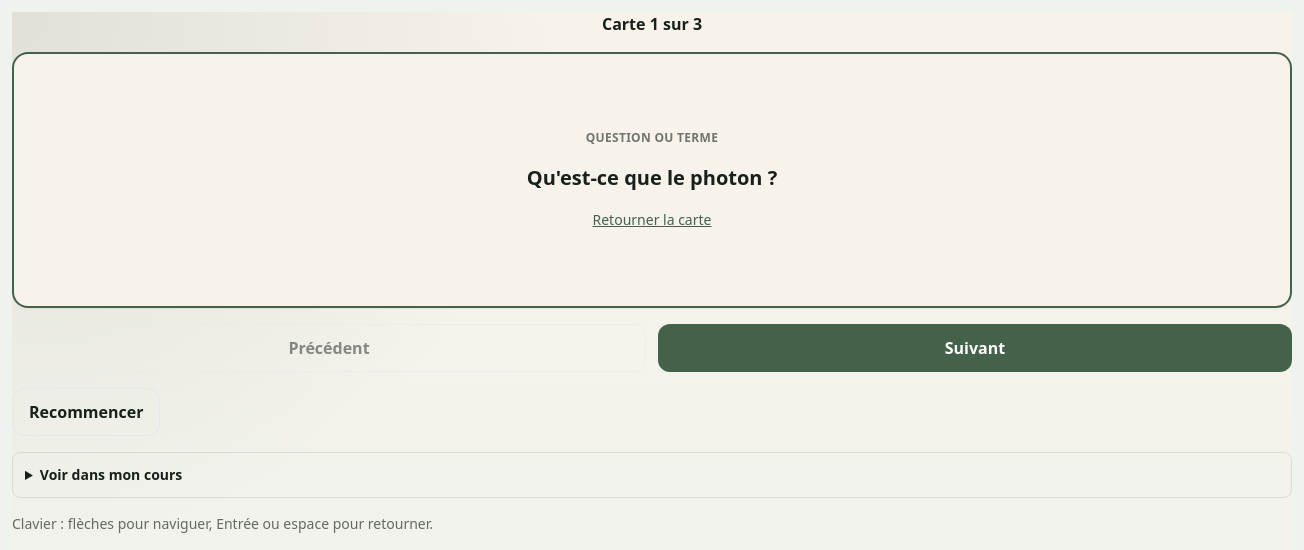
Test case: FlashcardDeck › recommence depuis le début
Click the button "Suivant".
click(975, 348)  # box [658,324,1292,372]
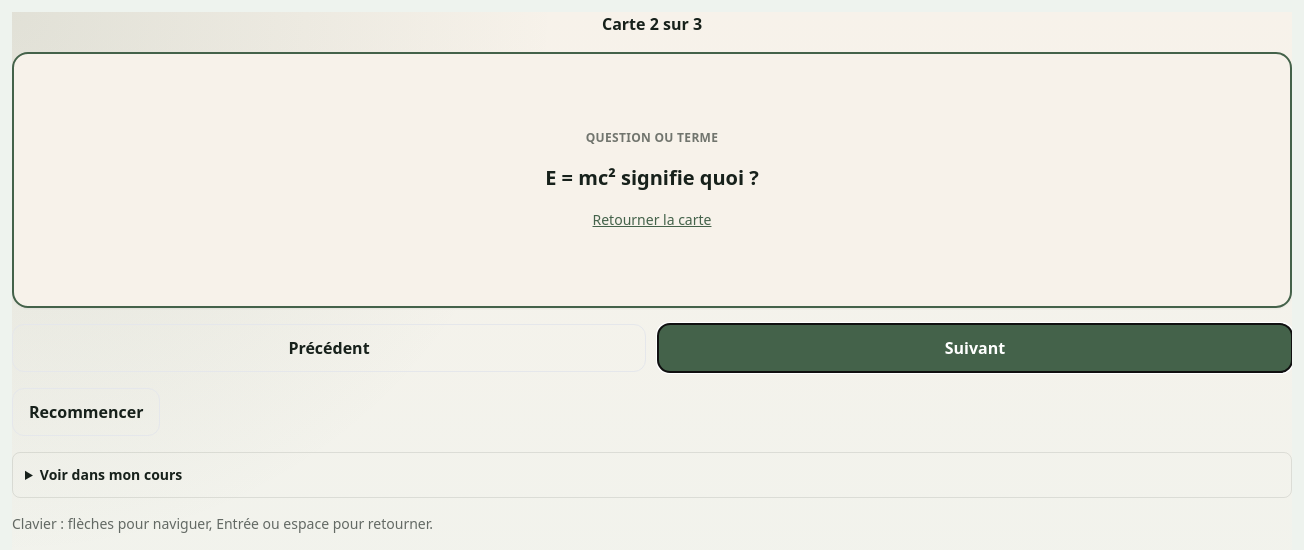
Click the button "Recommencer".
click(86, 412)  # box [12,388,160,436]
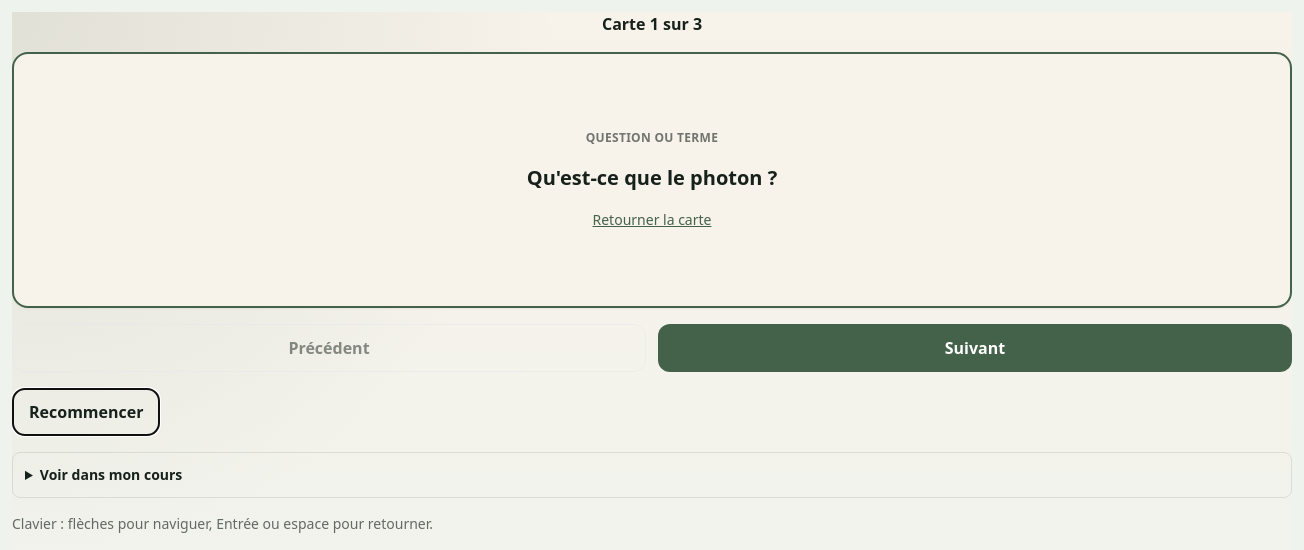
Expected: the text "Carte 1 sur 3" is shown, [602,13,702,35]
